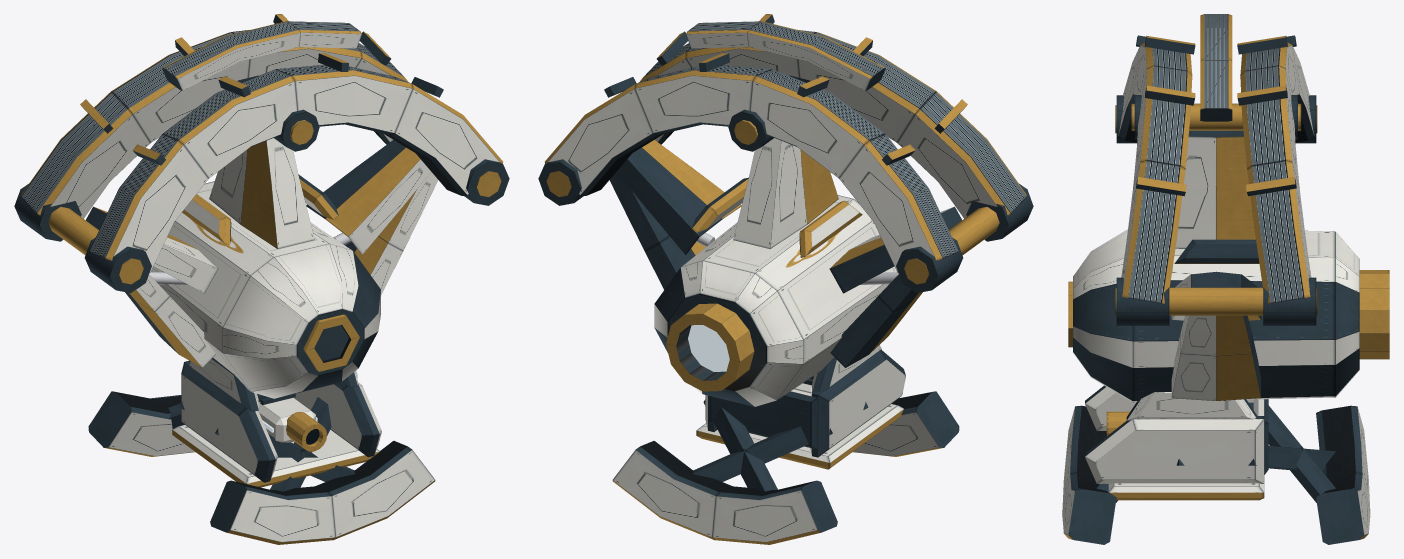
The model's file is cassini-europa-l05-laser.glb.
The picture shows the model from 3 angles, left to right: view 1: azimuth 30°, elevation 25°; view 2: azimuth 150°, elevation 25°; view 3: azimuth 270°, elevation 25°; orthographic projection. The views are drawn at different scales.
Visible parts, largest first — view 1: Drone; view 2: Drone; view 3: Drone.
Part boxes in pixels (x1,y1,x2,y2): Drone: (14, 14, 509, 544); Drone: (538, 14, 1033, 544); Drone: (1062, 14, 1389, 544).
Bounding box in the file's own units: 1.91 × 2.1 × 1.3.
3 materials, 3 textured.
